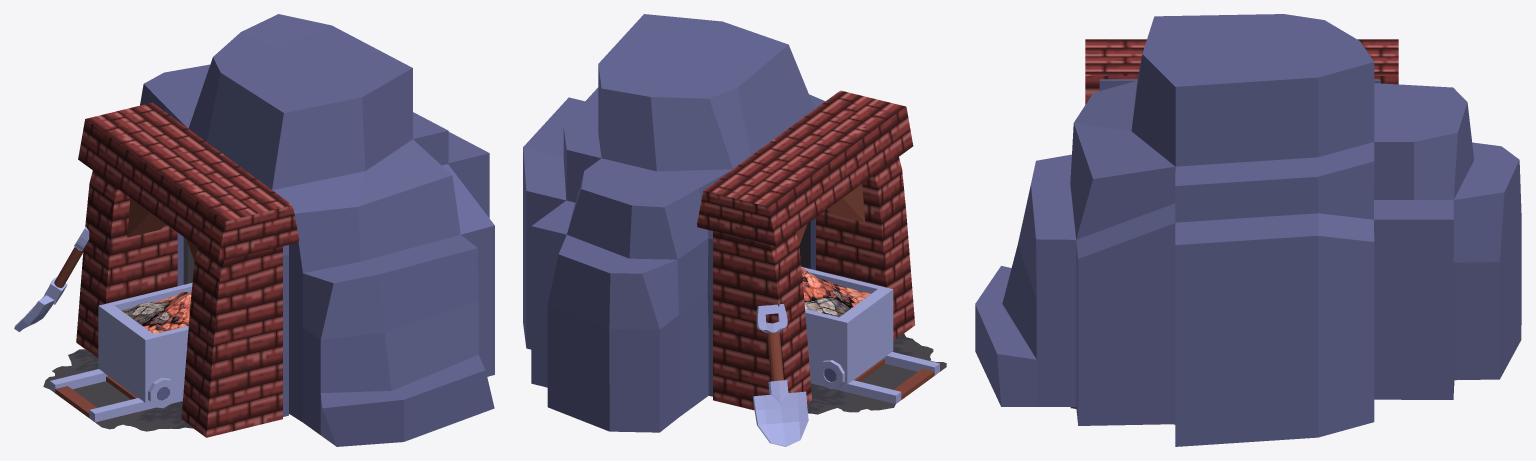
The model's file is mine.fbx.
3 views of the same model, side by side, from view 1: azimuth 30°, elevation 25°; view 2: azimuth 150°, elevation 25°; view 3: azimuth 270°, elevation 25° (orthographic). The views are drawn at different scales.
Visible parts, largest first — view 1: Piedras, Marco, Carrito, Vias, Minerales, Pala; view 2: Piedras, Marco, Carrito, Vias, Pala, Minerales; view 3: Piedras, Marco.
Boxes of the visible parts, x1,y1,x2,y2 form: Piedras: (140,14,494,446); Marco: (76,102,299,437); Carrito: (98,282,192,408); Vias: (43,349,193,431); Minerales: (121,291,191,334); Pala: (14,227,89,331); Piedras: (523,14,825,432); Marco: (697,90,914,410); Carrito: (801,267,893,389); Vias: (807,333,946,414); Pala: (753,304,808,446); Minerales: (801,267,870,317); Piedras: (975,14,1521,446); Marco: (1085,39,1398,104).
Size of the model in its own units: 316 by 344 by 222.
Materials: 6 (3 with a texture image).
